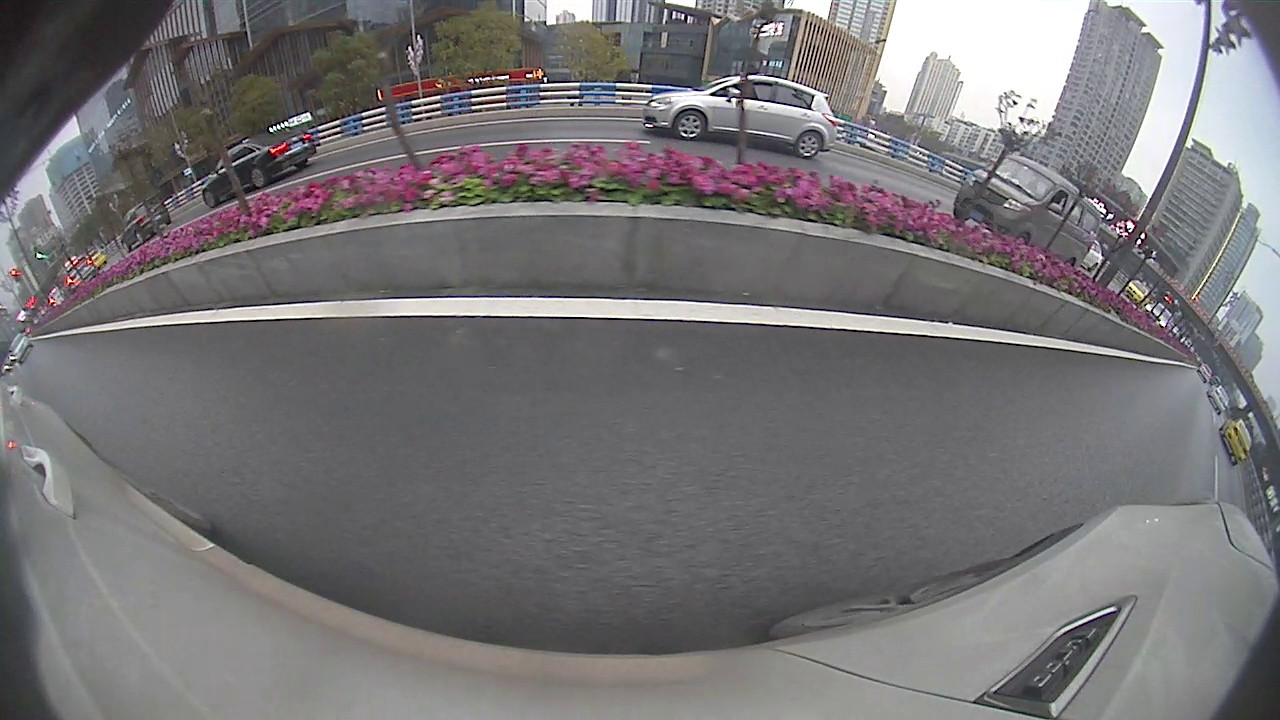car: (644, 76, 842, 161), (1220, 414, 1254, 466)
front: (671, 107, 709, 144), (203, 191, 219, 208)
rear: (793, 129, 826, 158), (252, 166, 267, 188)
